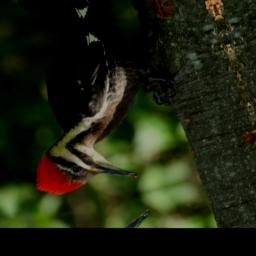Woodpecker: (0, 10, 199, 204)
